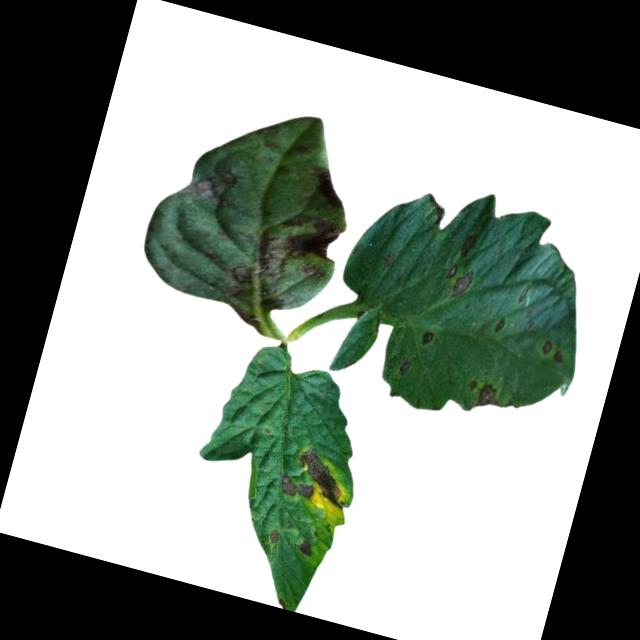Early_blight: (216, 198, 347, 327), (286, 446, 349, 507), (176, 154, 244, 210), (304, 167, 353, 213), (440, 258, 478, 303), (462, 375, 505, 413), (274, 473, 315, 503), (455, 231, 478, 260), (538, 340, 564, 364), (293, 536, 315, 560), (264, 526, 282, 546), (394, 355, 411, 376), (416, 329, 434, 347)
